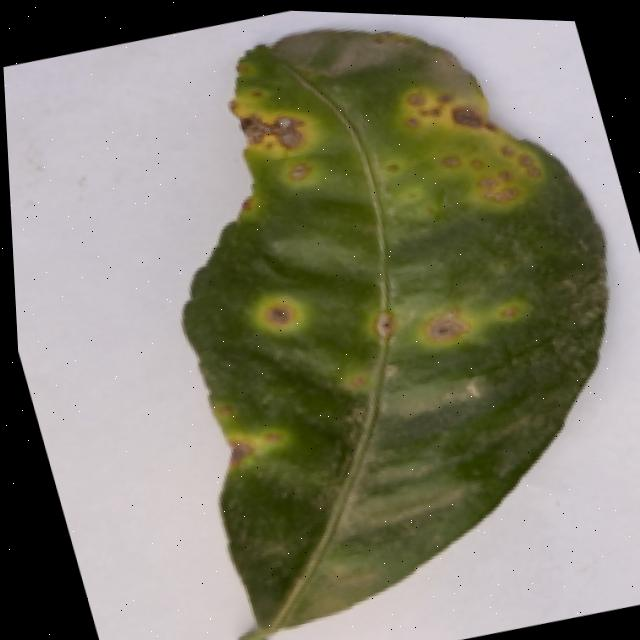canker: (182, 31, 605, 640), (377, 57, 563, 241), (333, 264, 557, 387), (200, 67, 350, 196), (175, 381, 310, 495), (239, 280, 330, 344)
